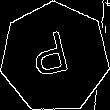P_S: (31, 29, 78, 86)
